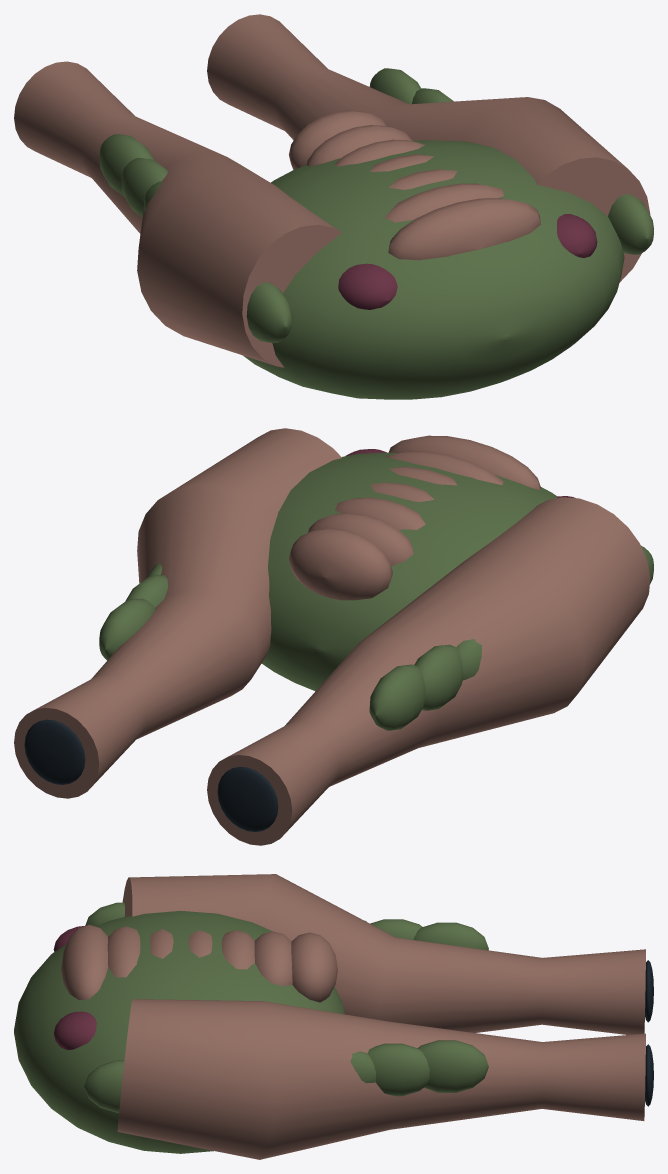
File: spitter.glb
3 views of the same model, one above another, from view 1: azimuth 30°, elevation 25°; view 2: azimuth 150°, elevation 25°; view 3: azimuth 270°, elevation 25° (orthographic). The views are drawn at different scales.
Parts seen in each view (by area): view 1: spitter; view 2: spitter; view 3: spitter.
Boxes of the visible parts, box(x1,y1,x2,y2) form: spitter: box(14, 14, 653, 399); spitter: box(14, 428, 653, 845); spitter: box(14, 874, 653, 1159).
Bounding box in the file's own units: 4.4 × 1.92 × 6.1.
